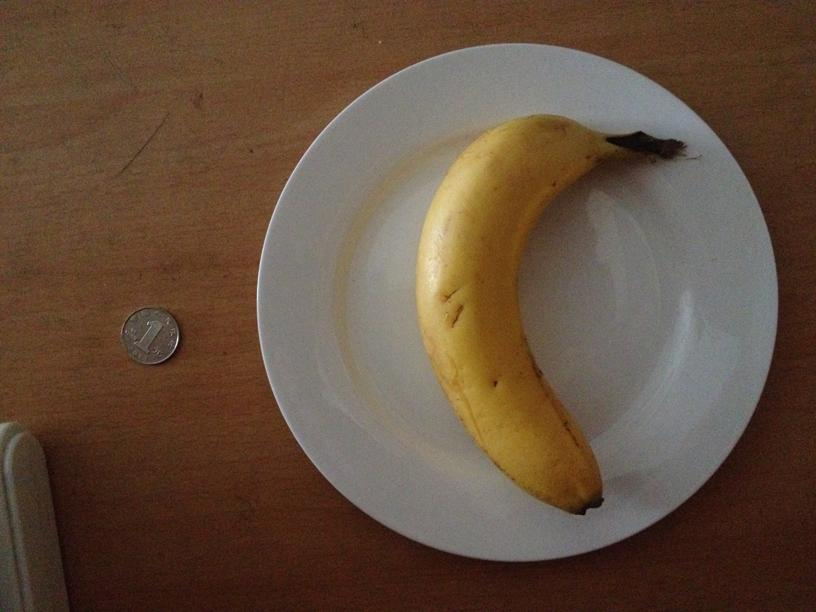banana: (416, 108, 612, 515)
coin: (118, 305, 182, 366)
